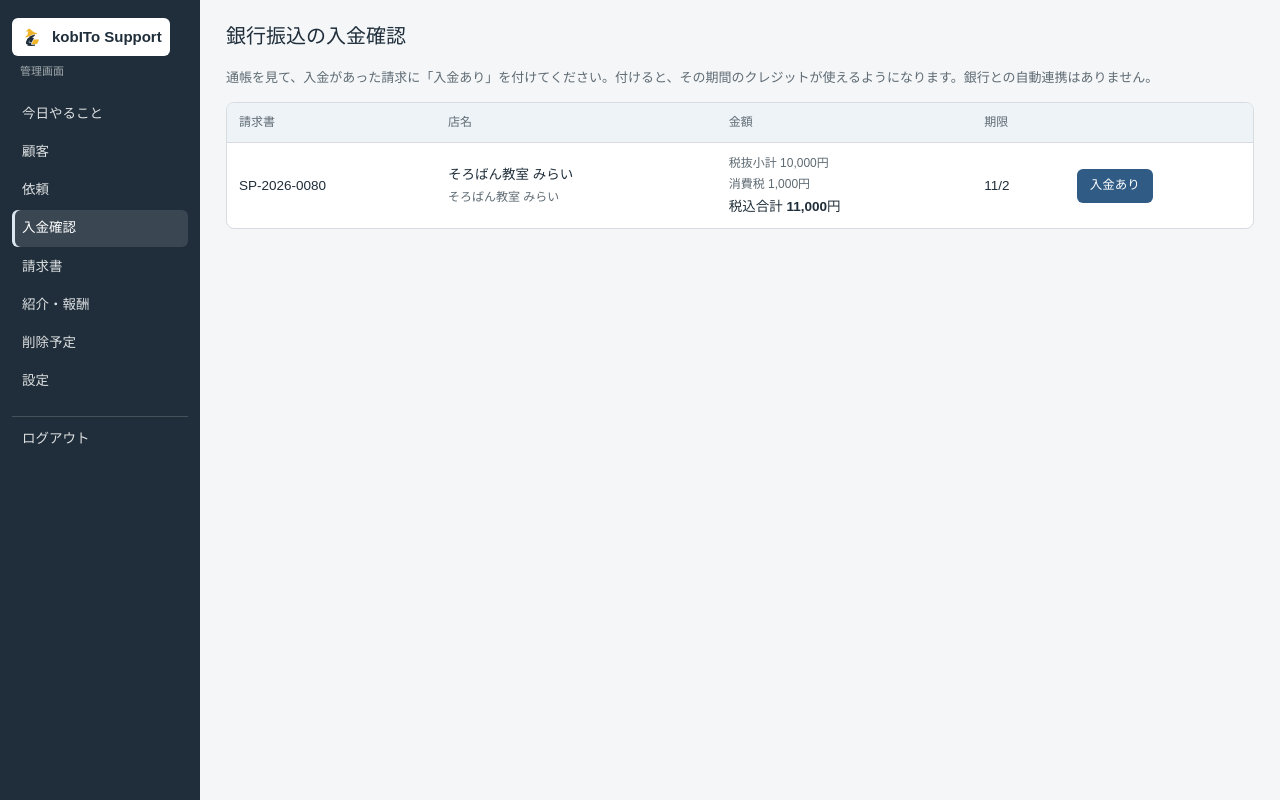
Scenario: a06 bank transfers › shows a table with 税抜小計・消費税・税込合計 and the 入金額 must equal 税込合計
Expected: the heading "銀行振込の入金確認" is shown, [226, 22, 406, 51]
Expected: the column headings read "請求書", "店名", "金額", "期限", "", in this order, [227, 103, 436, 142]; [436, 103, 717, 142]; [717, 103, 972, 142]; [972, 103, 1065, 142]; [1065, 103, 1253, 142]
Click the button "入金あり": (1115, 186) [1077, 169, 1153, 202]
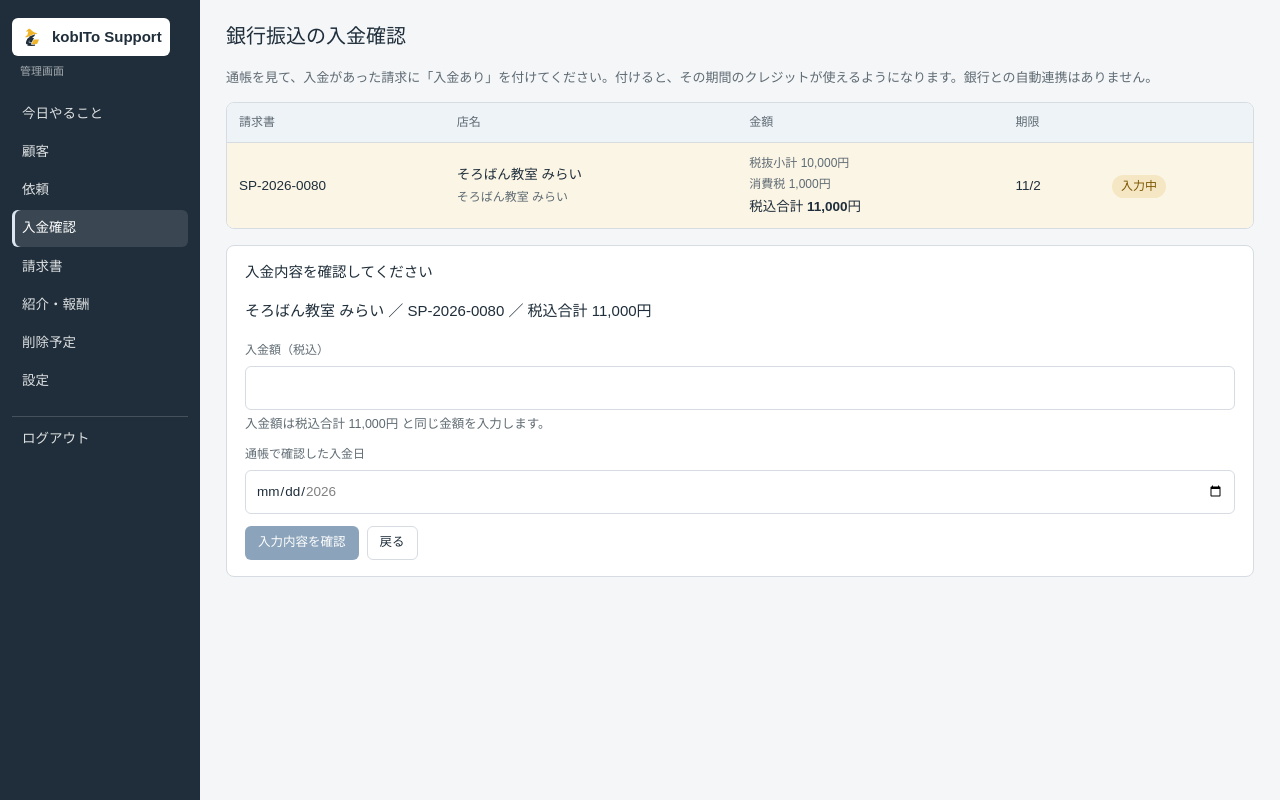
Result: the text "入金額は税込合計 11,000円 と同じ金額を入力します" is shown at [245, 417, 550, 431]
In the field labelled "入金額（税込）": (740, 388) [245, 366, 1235, 410], type "10000"
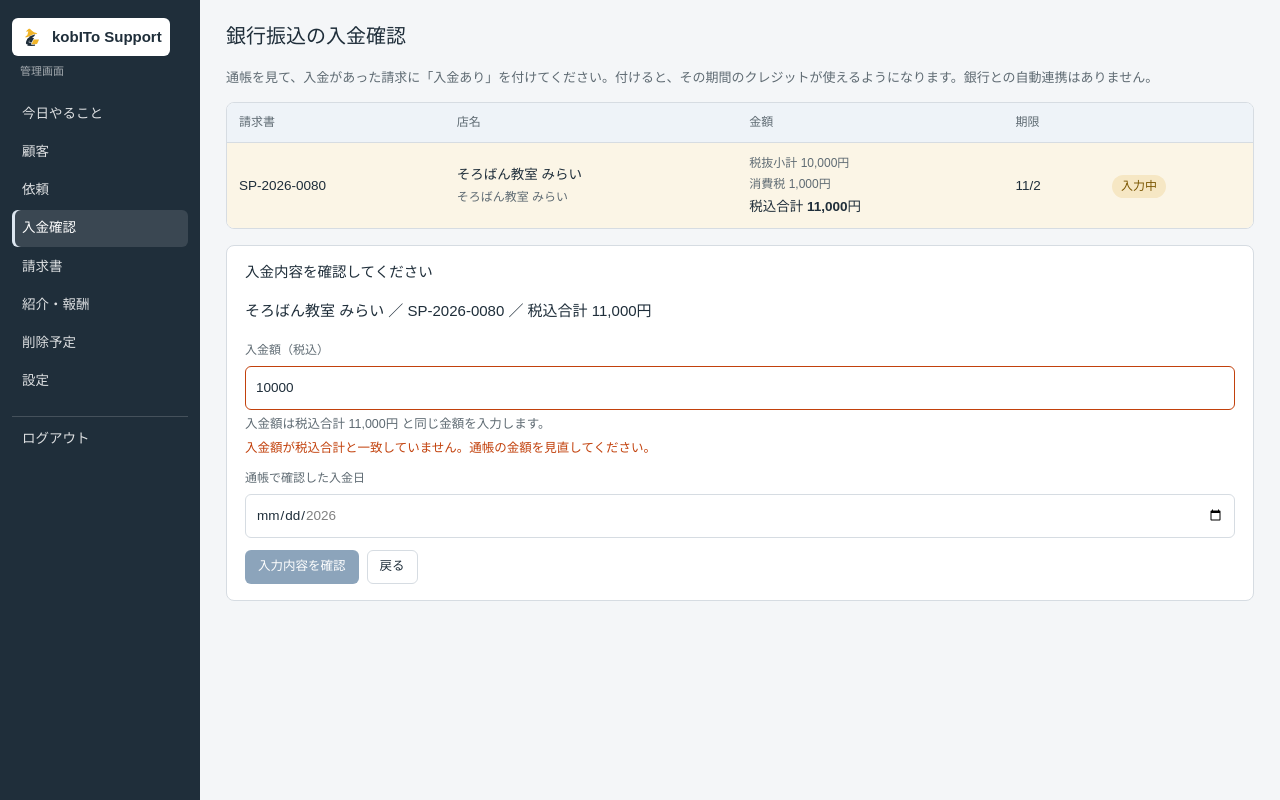
Result: the message "入金額が税込合計と一致していません。通帳の金額を見直してください。" is shown at [245, 441, 656, 455]
Replace the text in the field labelled "入金額（税込）" with "11000": (740, 388) [245, 366, 1235, 410]
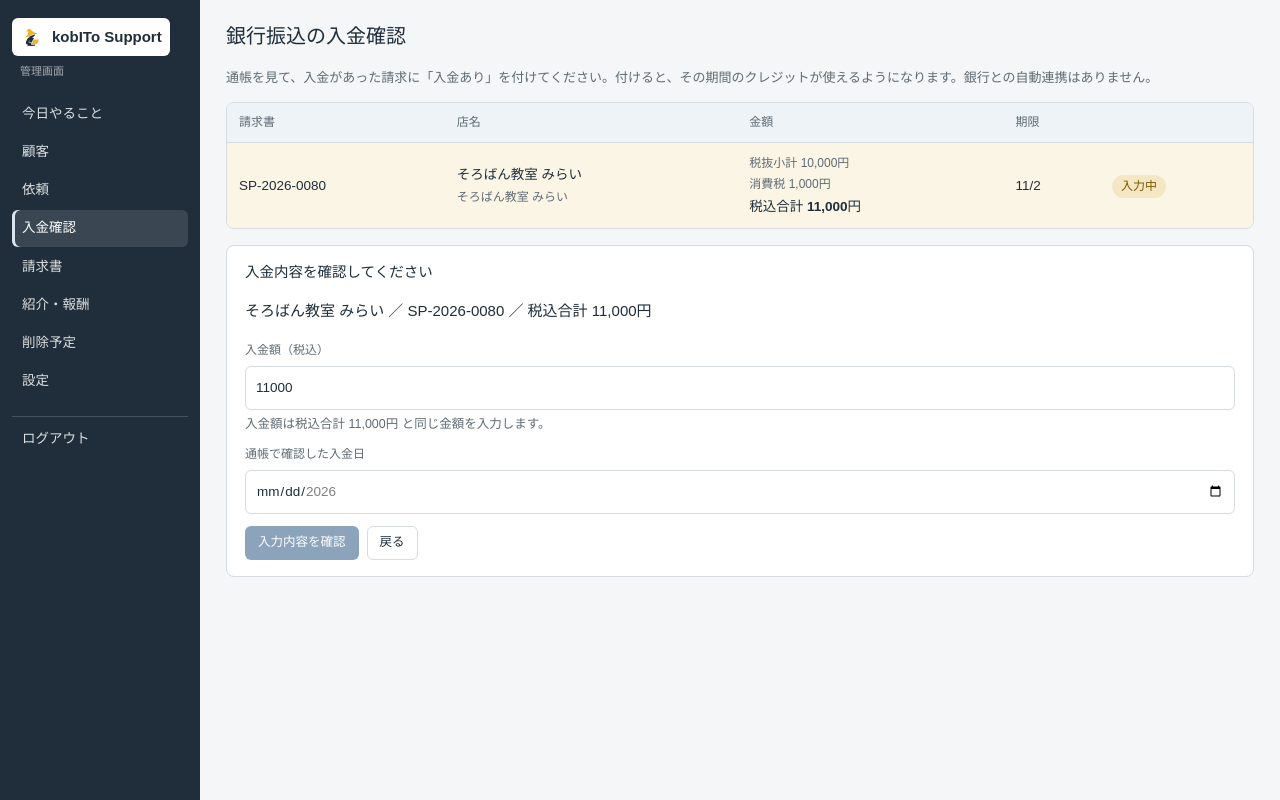
Result: the message "入金額が税込合計と一致していません。通帳の金額を見直してください。" is gone
